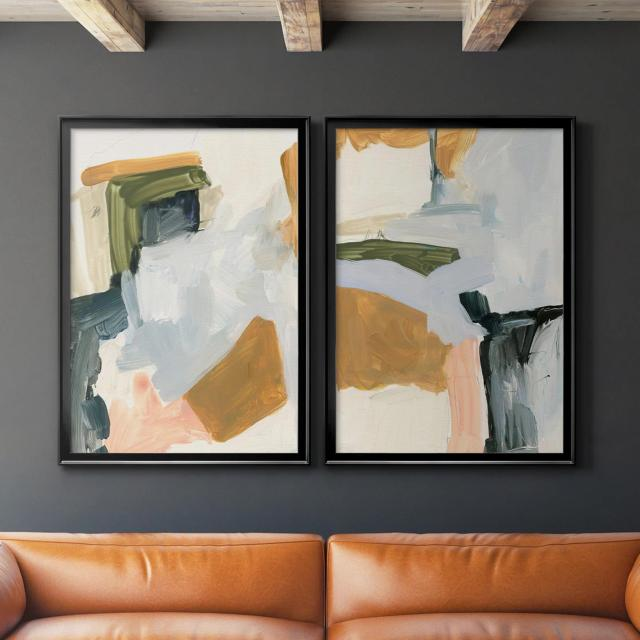painting: (58, 116, 311, 466), (324, 118, 576, 468)
